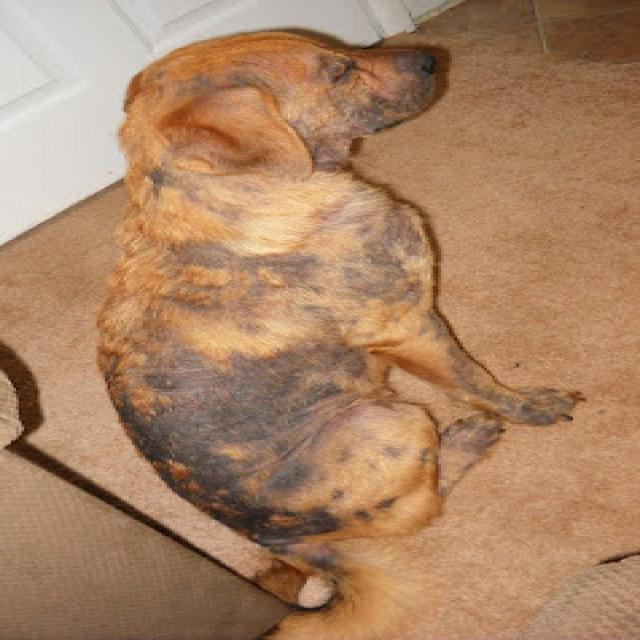allergic dermatitis: (119, 331, 364, 437), (171, 227, 337, 319), (168, 406, 316, 496), (320, 198, 422, 324)
